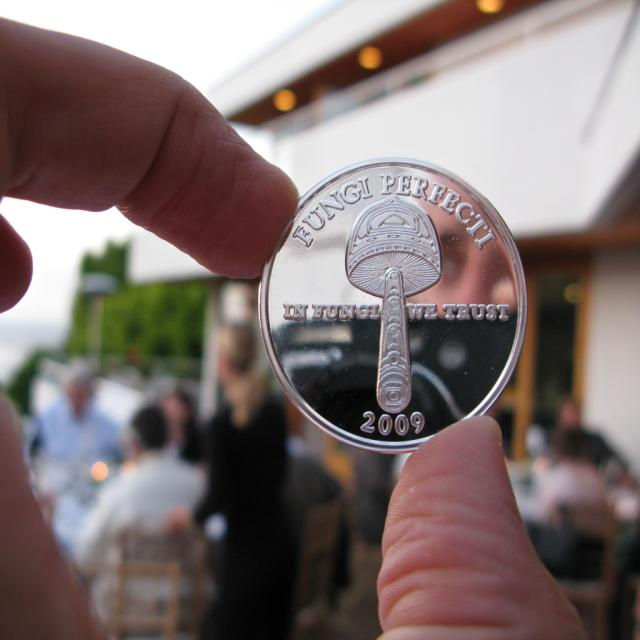Coin: (266, 150, 512, 463)
